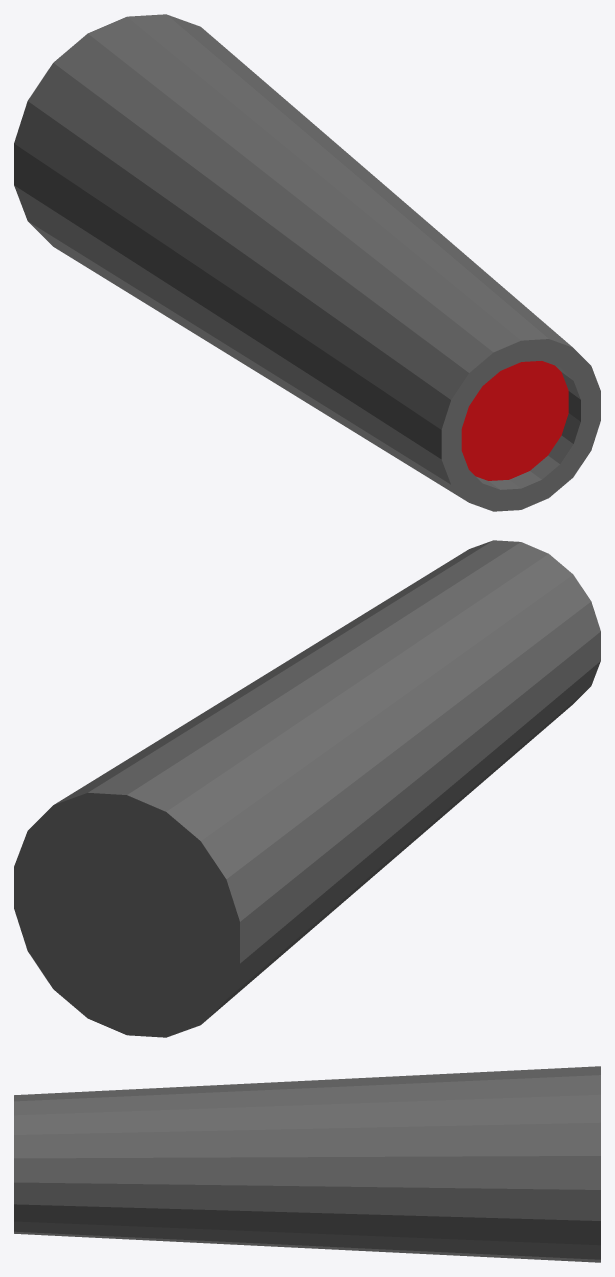
The model's file is Waffe.fbx.
The picture shows the model from 3 angles, top to bottom: view 1: azimuth 30°, elevation 25°; view 2: azimuth 150°, elevation 25°; view 3: azimuth 270°, elevation 25°; orthographic projection. The views are drawn at different scales.
Visible parts, largest first — view 1: Cylinder; view 2: Cylinder; view 3: Cylinder.
Boxes of the visible parts, bbox=[...] form: Cylinder: bbox=[14, 14, 600, 511]; Cylinder: bbox=[14, 540, 600, 1037]; Cylinder: bbox=[14, 1066, 600, 1262].
Size of the model in its own units: 0.4814 by 0.4889 by 1.45.
